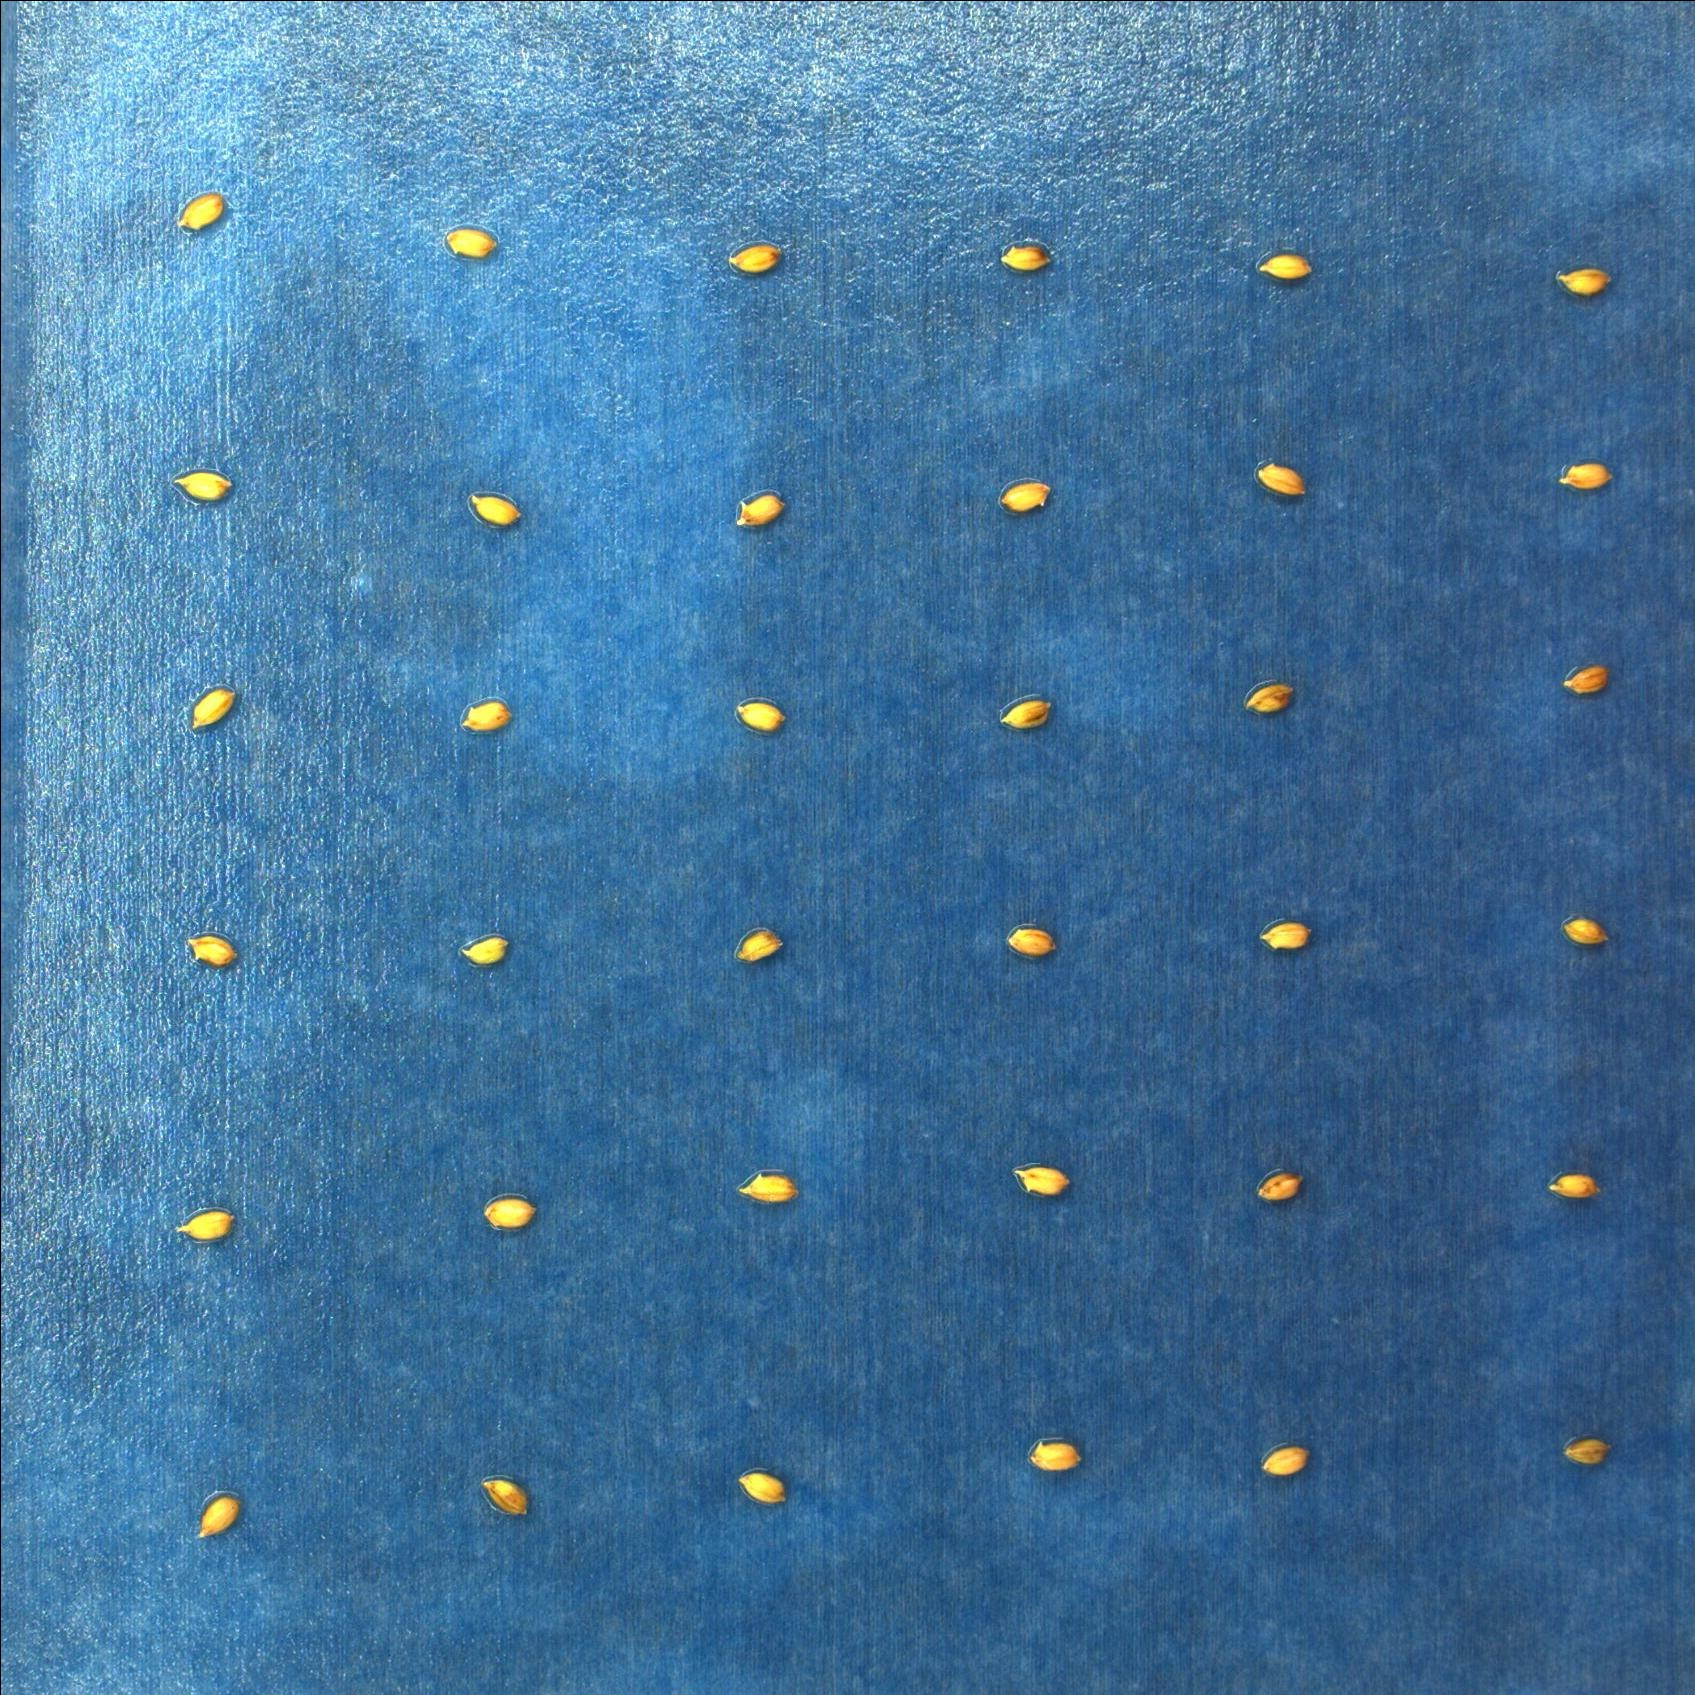not sprout: (438, 219, 501, 282), (168, 1205, 245, 1254), (180, 681, 253, 734), (478, 1192, 540, 1250), (722, 237, 785, 289), (733, 1461, 795, 1512), (1558, 660, 1611, 719), (196, 1487, 242, 1551), (1271, 258, 1336, 303), (480, 1470, 536, 1521), (730, 920, 787, 970), (744, 1161, 804, 1208), (997, 691, 1057, 737), (997, 236, 1059, 281), (1014, 1159, 1077, 1203), (168, 192, 231, 236), (1263, 1420, 1316, 1471), (1549, 447, 1610, 490), (453, 691, 515, 733), (1003, 913, 1059, 959), (1555, 262, 1617, 303), (1257, 452, 1309, 500), (186, 930, 237, 976), (1253, 914, 1312, 955), (736, 483, 792, 525), (998, 478, 1049, 523), (1028, 1433, 1087, 1471), (733, 695, 787, 737), (469, 483, 522, 525), (1546, 1166, 1599, 1205), (1250, 1169, 1298, 1209), (1562, 1433, 1611, 1471), (172, 472, 231, 504), (463, 936, 517, 970), (1246, 678, 1291, 714), (1568, 910, 1607, 945)
